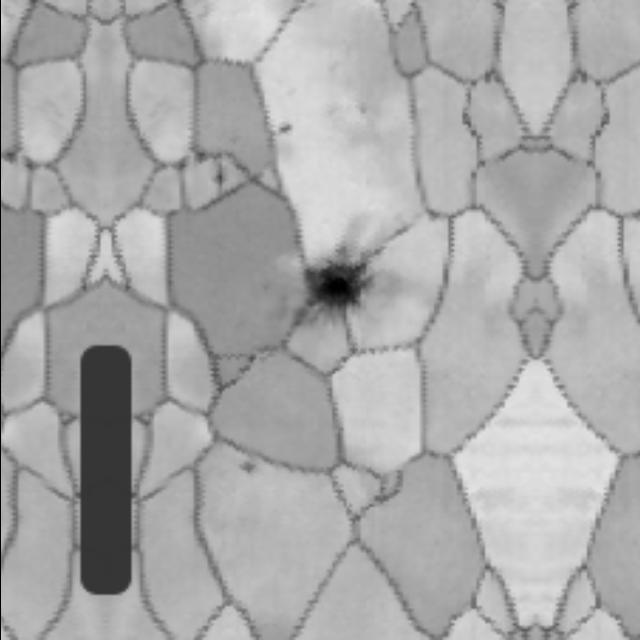good_void: (302, 244, 380, 323), (272, 114, 301, 147), (236, 458, 262, 476)
